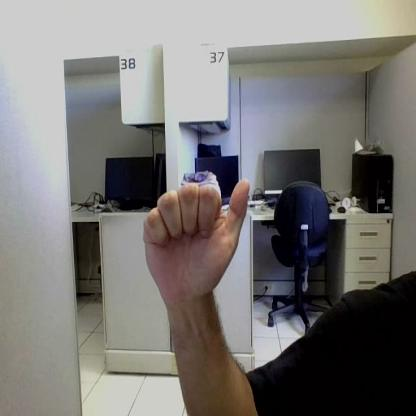A: (143, 179, 249, 288)
